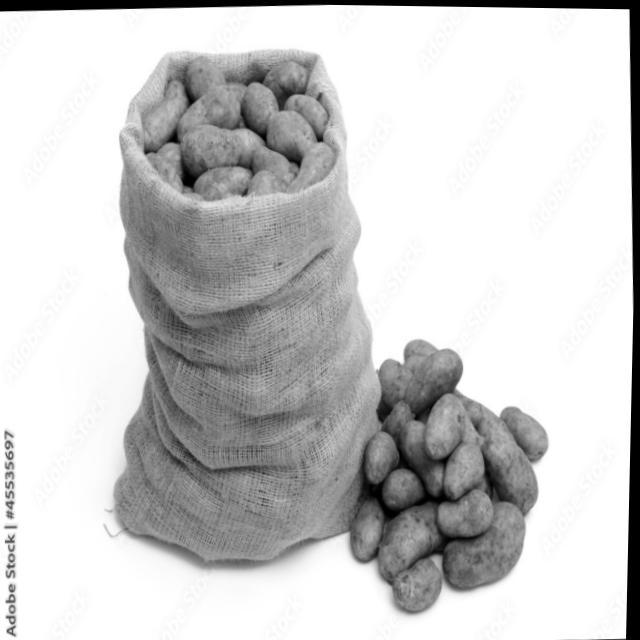sack: (98, 40, 394, 567)
